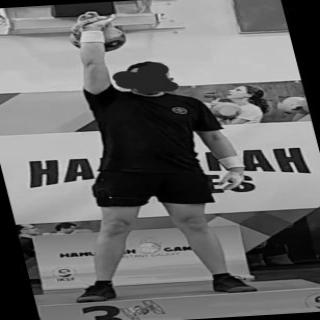kettlebell: (51, 8, 141, 58)
